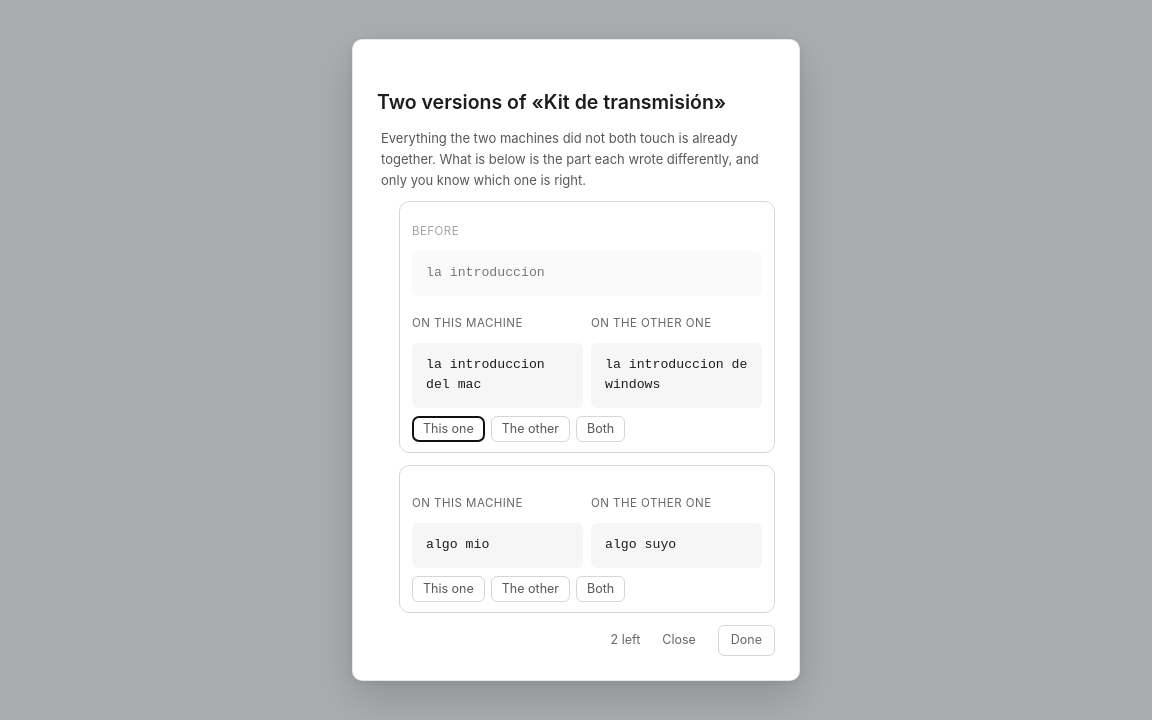
Test: deciding a document block by block › will not finish until every block has an answer
expect the button "Done" is disabled: met, box [718,625,775,656]
Click the button "This one" below "Before" at (448, 429), box [412,416,485,442]
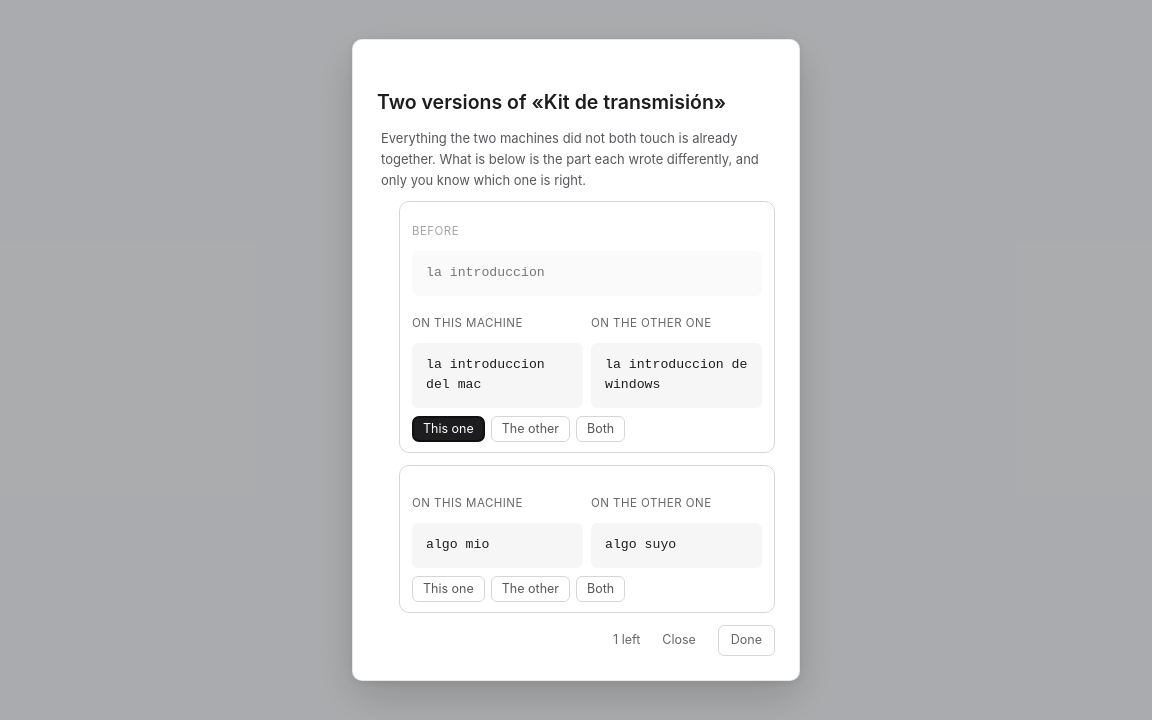
expect the button "Done" is disabled: met, box [718,625,775,656]
Click the button "The other" below "algo mio" at (530, 589), box [491,576,570,602]
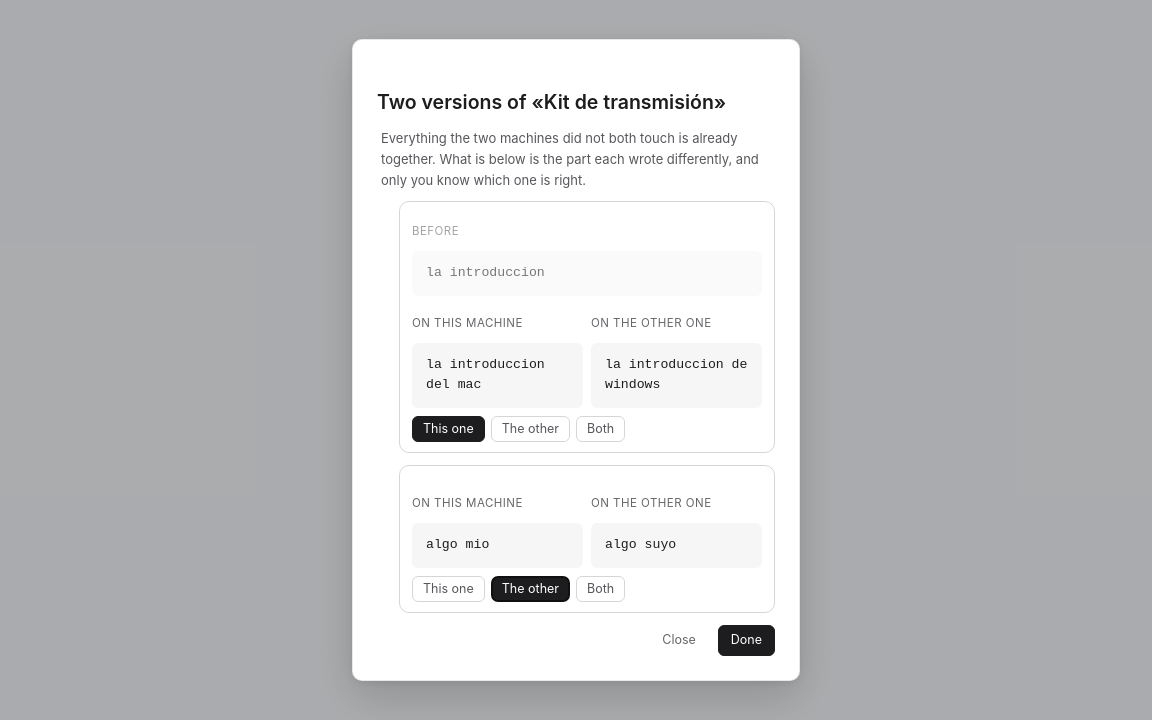
expect the button "Done" is enabled: met, box [718,625,775,656]
